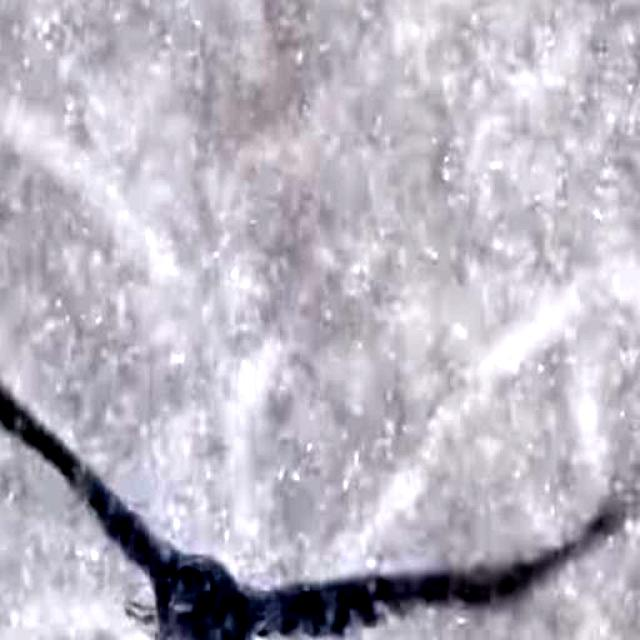airplane: (0, 155, 619, 640)
